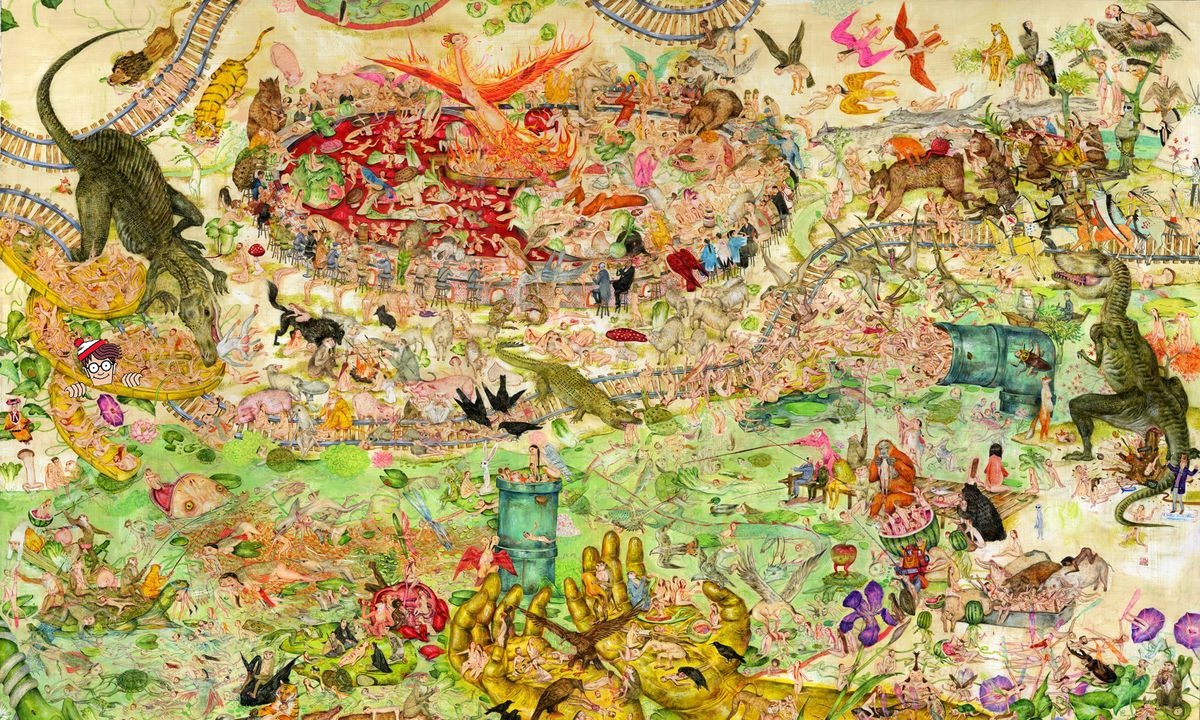waldo: (64, 338, 143, 398)
